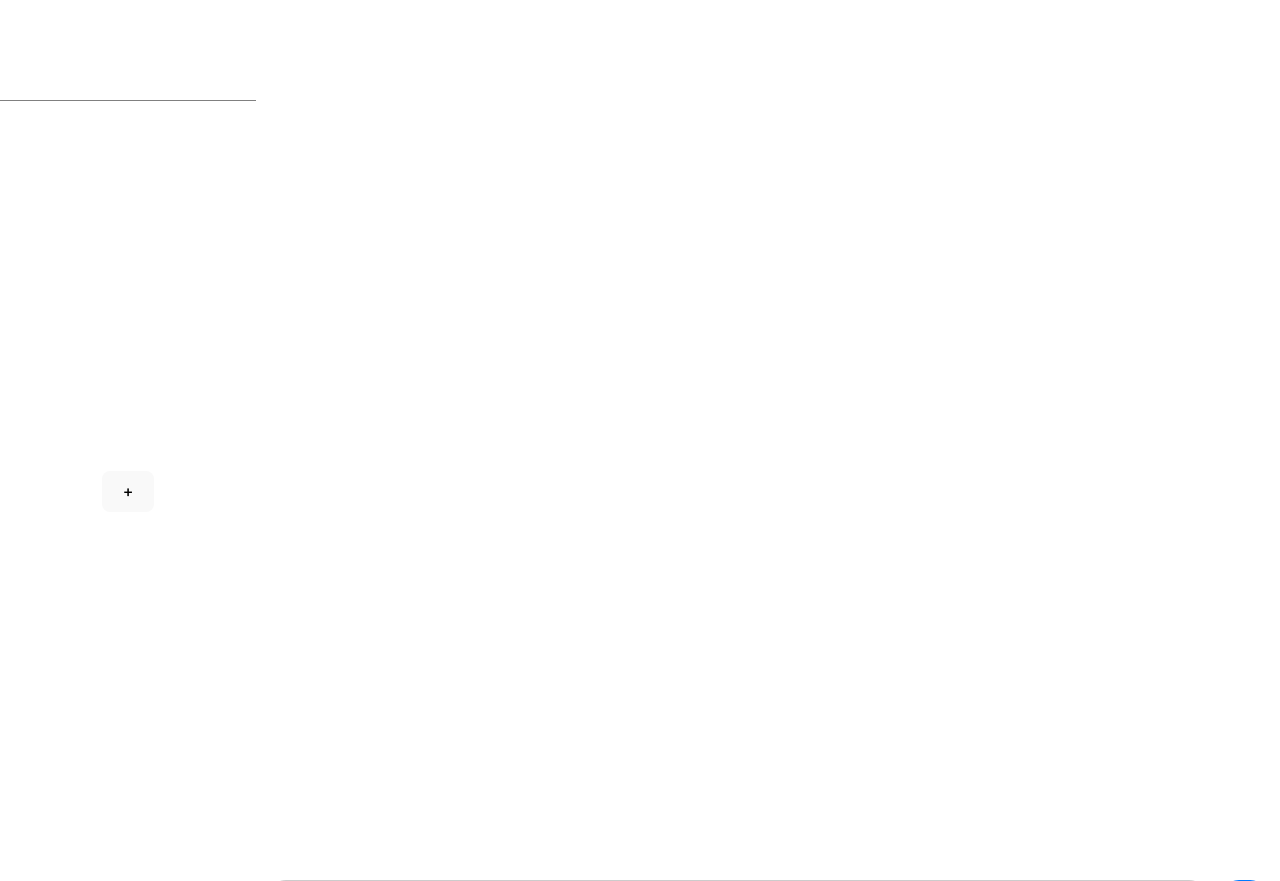
Test: should open the modal when the button is clicked
Click the 1st button "+" at x=128, y=491, box left=102, top=471, right=154, bottom=512
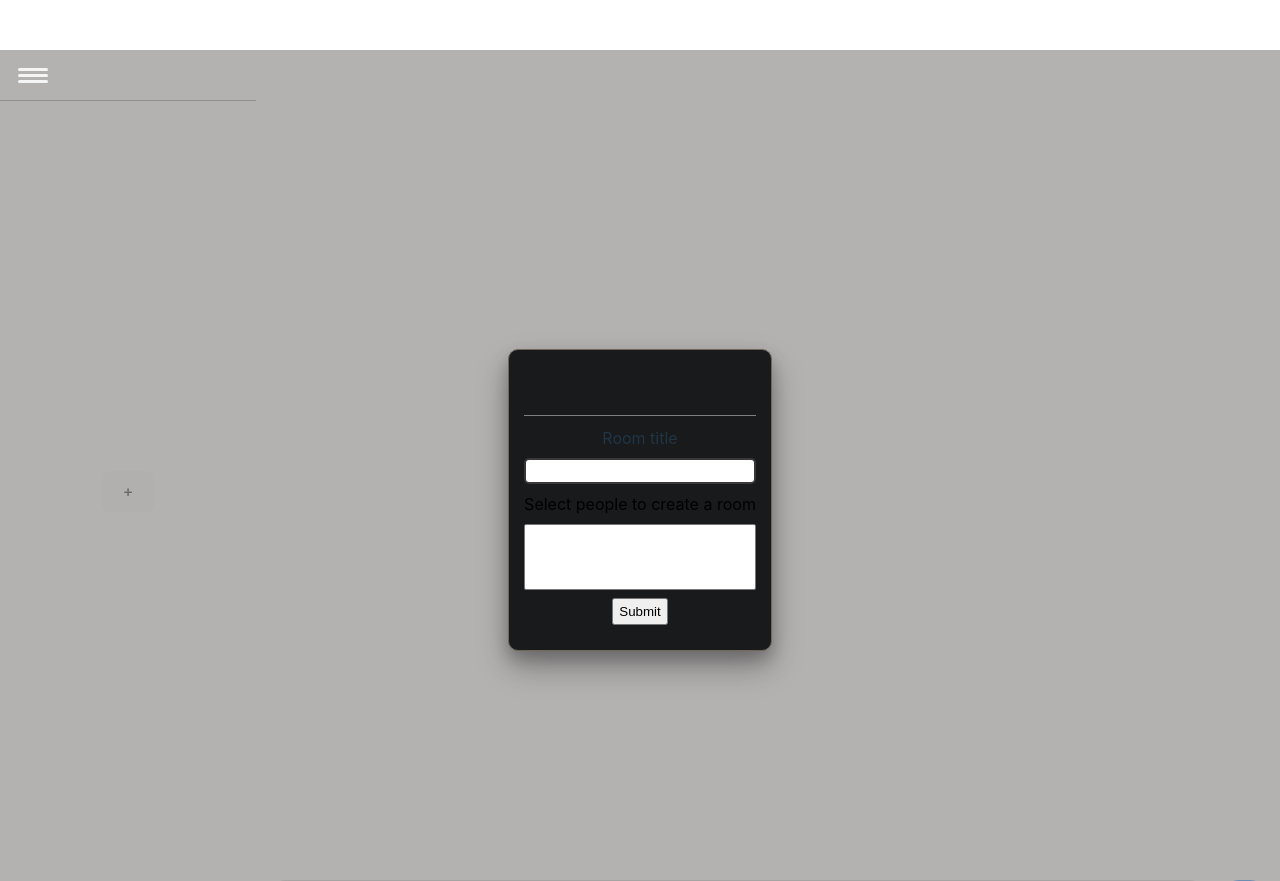
expect the field labelled "Room title" is shown: met, box left=524, top=458, right=756, bottom=484
